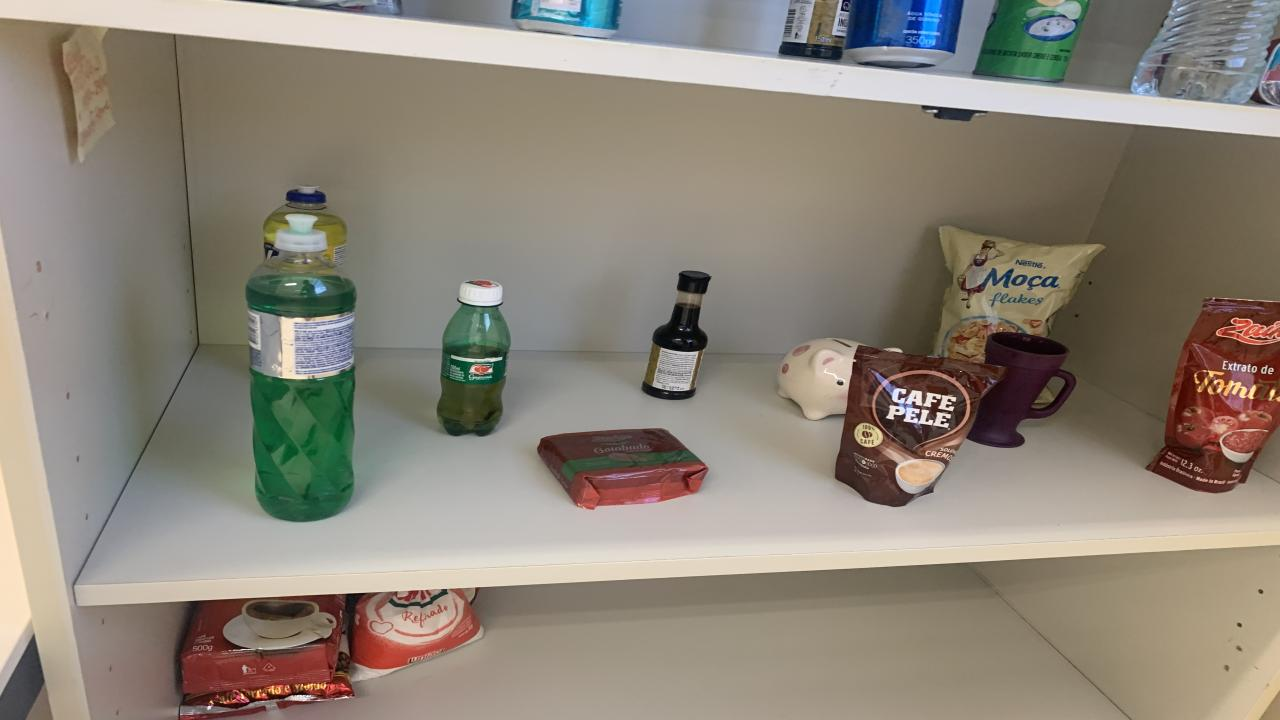Coffee-Pantry_Items: (835, 347, 1005, 506)
Detergent-Cleanup_Items: (245, 214, 358, 521), (262, 186, 348, 266)
English_Sauce-Pantry_Items: (642, 272, 710, 399), (780, 0, 850, 60)
Flakes-Snacks: (935, 225, 1105, 362), (252, 0, 402, 15)
Guarana-Drinks: (438, 279, 510, 435)
Guava-Snacks: (538, 428, 708, 508)
Pig_Safe-Miscellaneous: (778, 338, 860, 420)
Pringles-Snacks: (975, 0, 1090, 82)
Tea-Drinks: (510, 0, 620, 38)
Tomato_Sauce-Pantry_Items: (1148, 298, 1280, 493)
Tonic-Drinks: (845, 0, 962, 68)
Tuna_Can-Pantry_Items: (1255, 39, 1280, 107)
Water_Bottle-Drinks: (1132, 0, 1280, 103)
